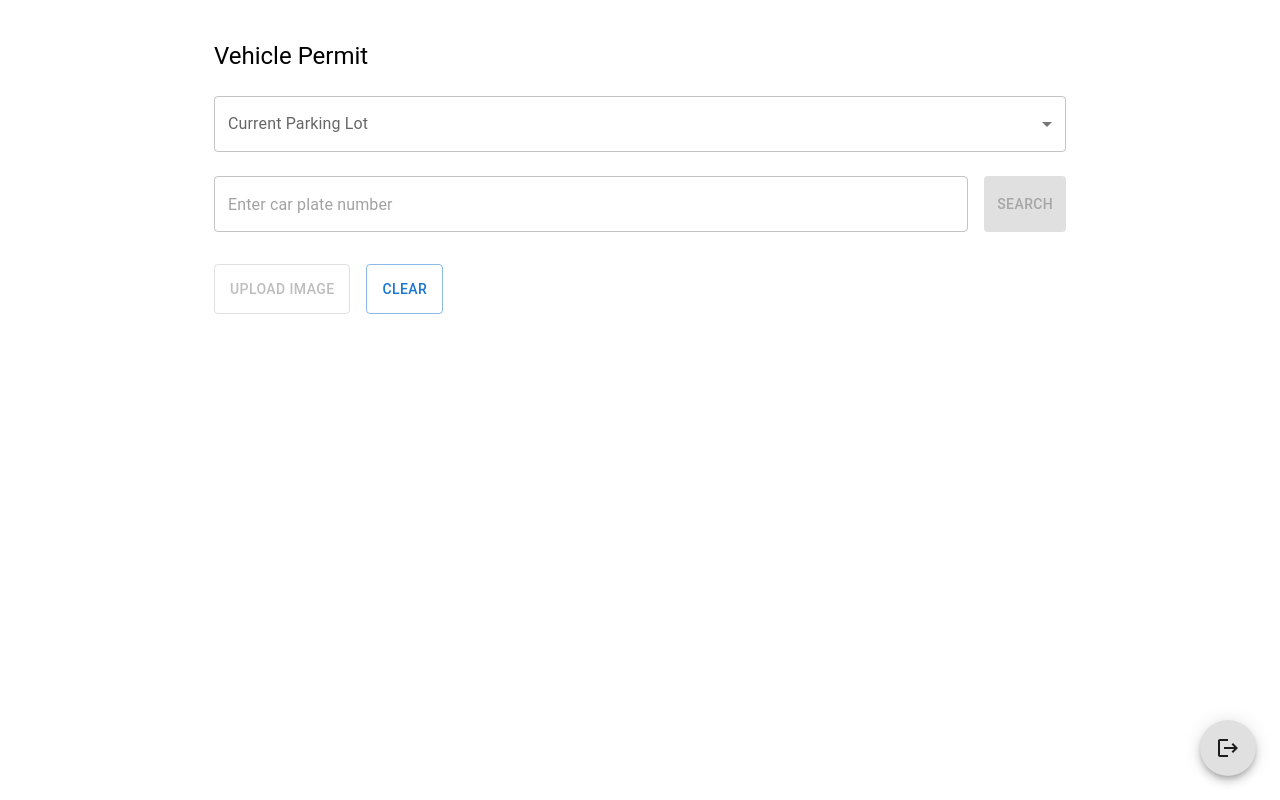
Test case: should show error and get driverID when no permits found
Click the dropdown named "Current Parking Lot" at (640, 124), box 214,96 -> 1066,152
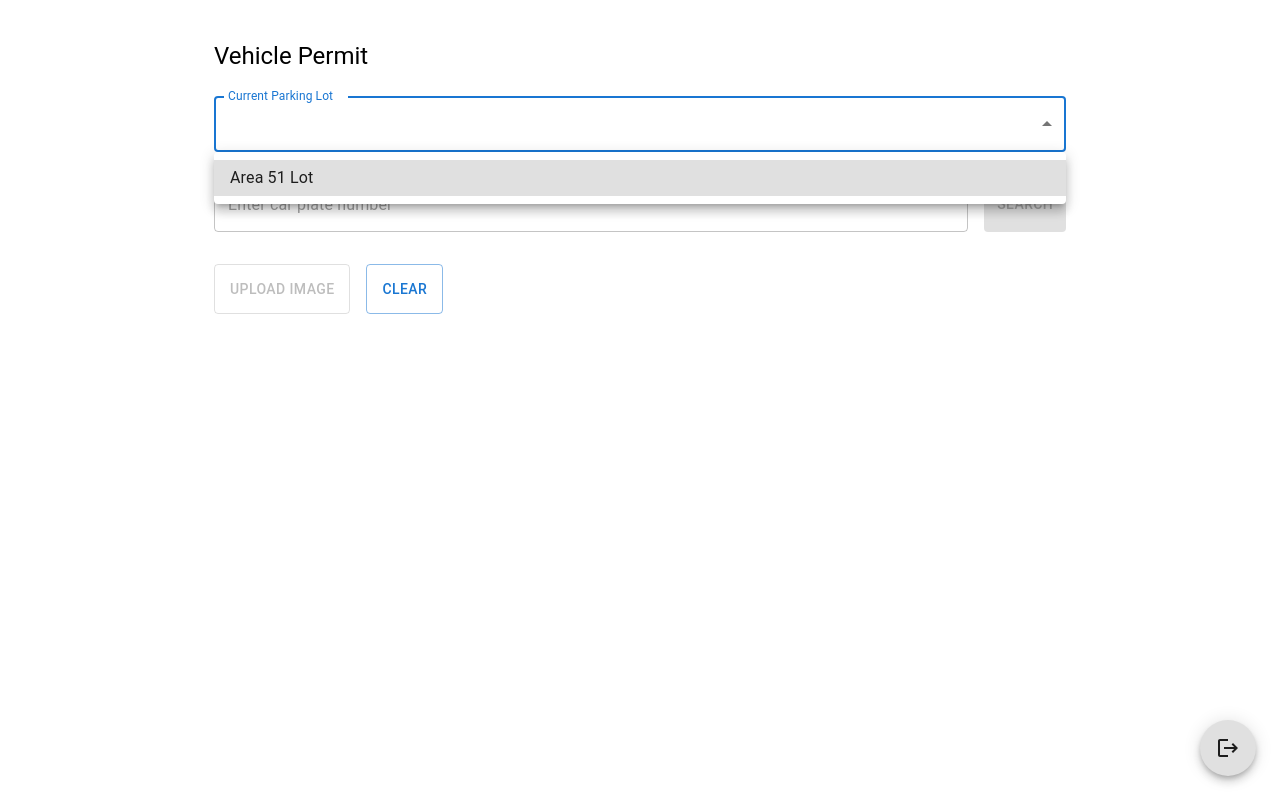
Click the option "Area 51 Lot" at (272, 178), box 214,160 -> 1066,196
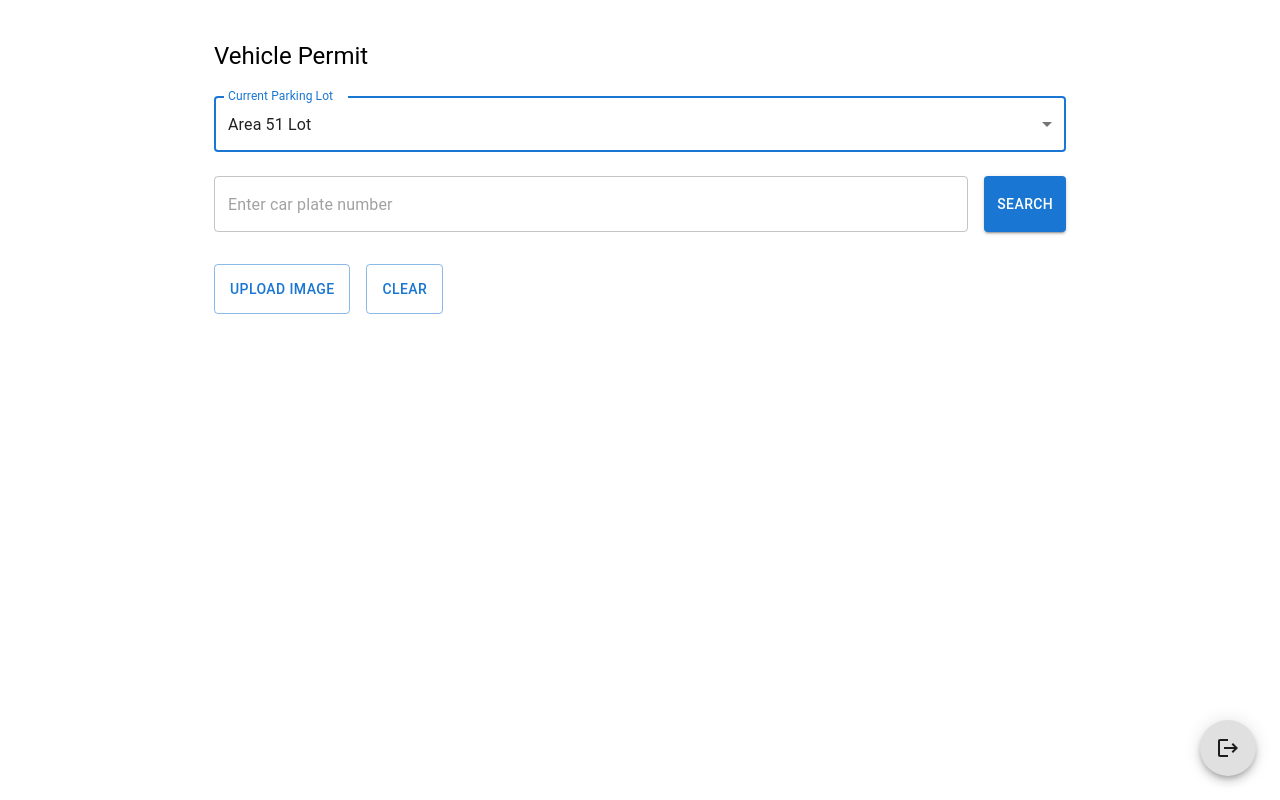
Type "123BC4" into the field with placeholder "Enter car plate number" at (591, 204), box 214,176 -> 968,232
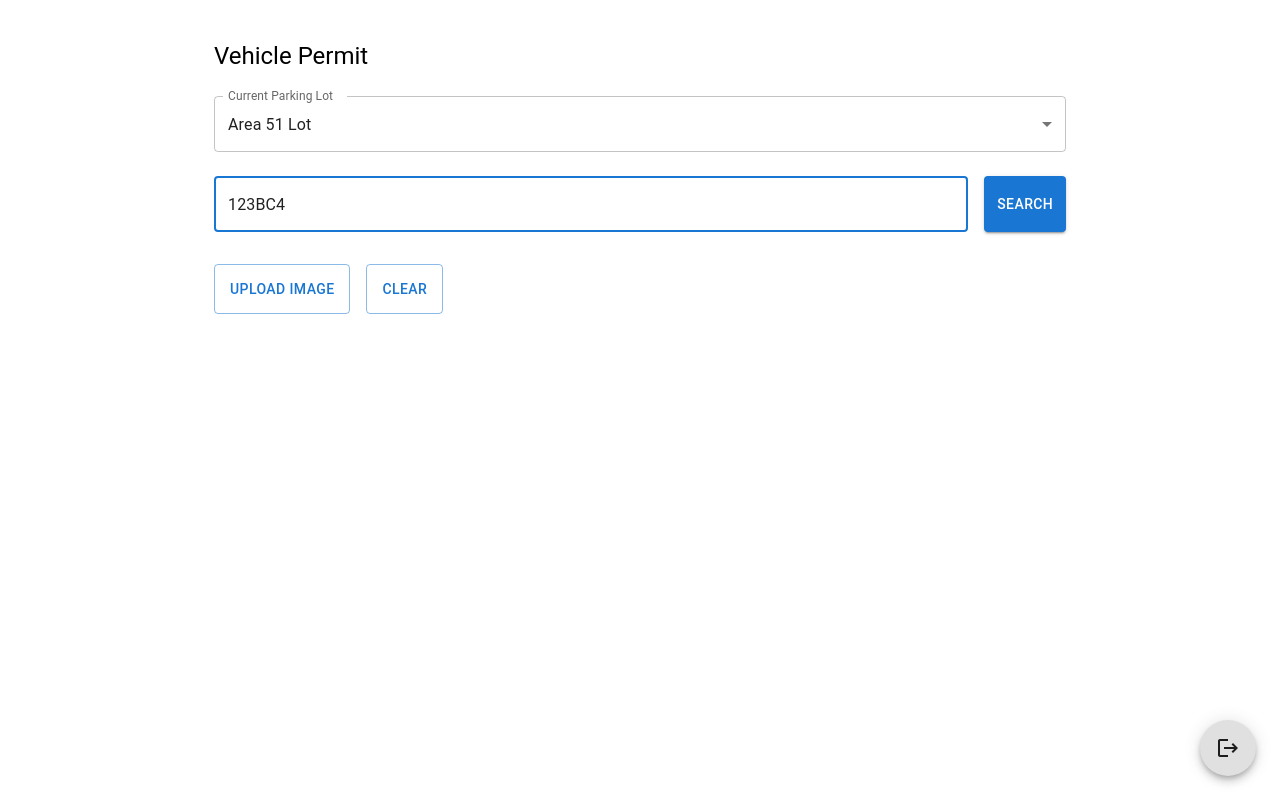
Click the button "Search" at (1025, 204), box 984,176 -> 1066,232
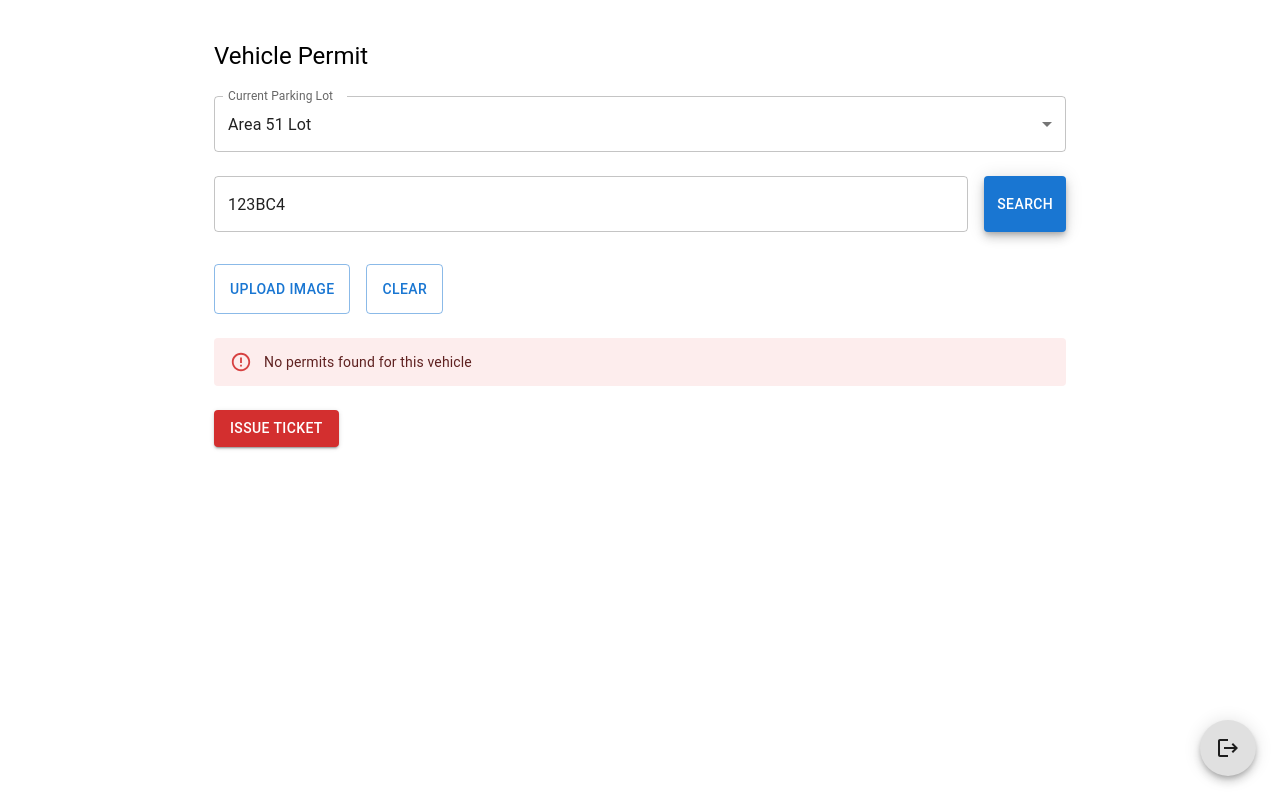
Now the text "No permits found for this vehicle" is shown, box 264,354 -> 472,370
Now the button "Issue Ticket" is shown, box 214,410 -> 339,446
